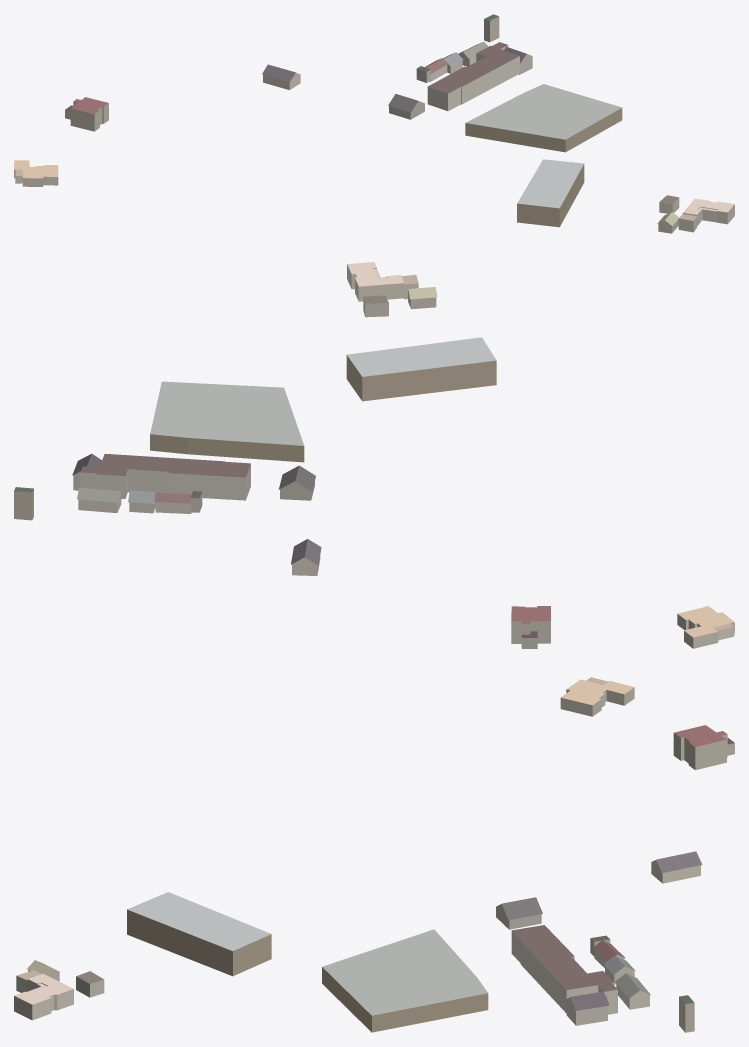
3 renders of one model, top to bottom at view 1: azimuth 30°, elevation 25°; view 2: azimuth 150°, elevation 25°; view 3: azimuth 270°, elevation 25°, orthographic. The views are drawn at different scales.
Visible parts, largest first — view 1: tuile; view 2: tuile; view 3: tuile.
Boxes of the visible parts, left/top/right/bottom form: tuile: left=14, top=14, right=734, bottom=233; tuile: left=14, top=262, right=734, bottom=648; tuile: left=14, top=677, right=734, bottom=1032.
Bounding box in the file's own units: 241 × 11.61 × 216.
